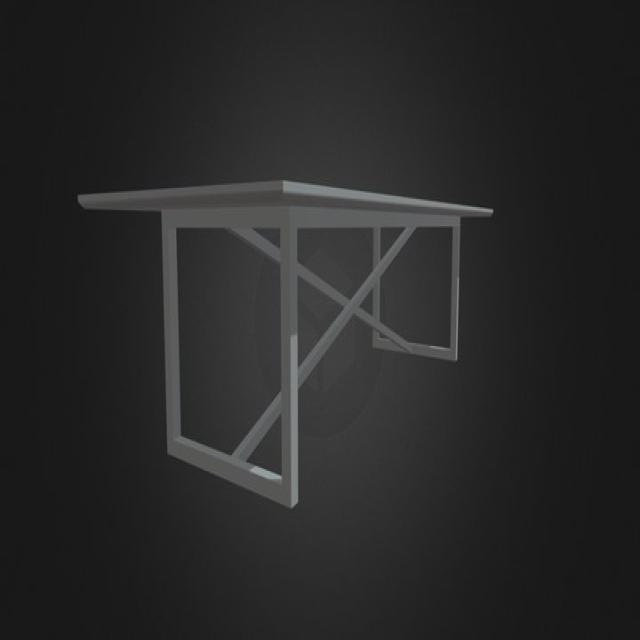table: (80, 177, 495, 510)
